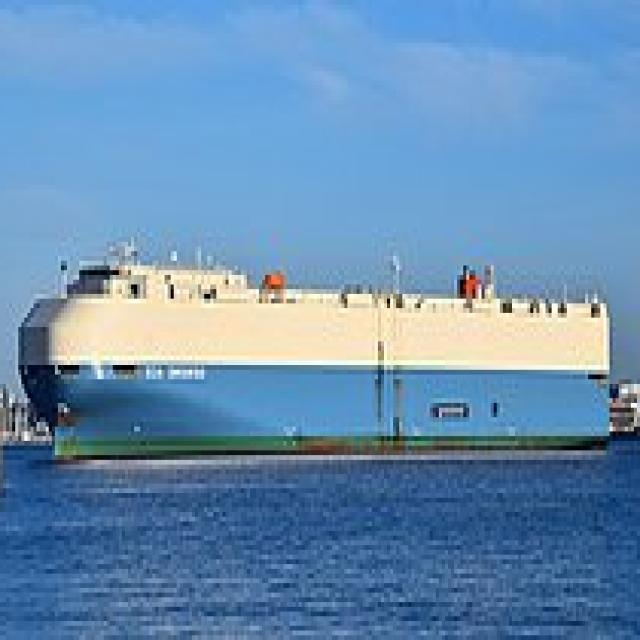Carrier: (18, 228, 619, 455)
